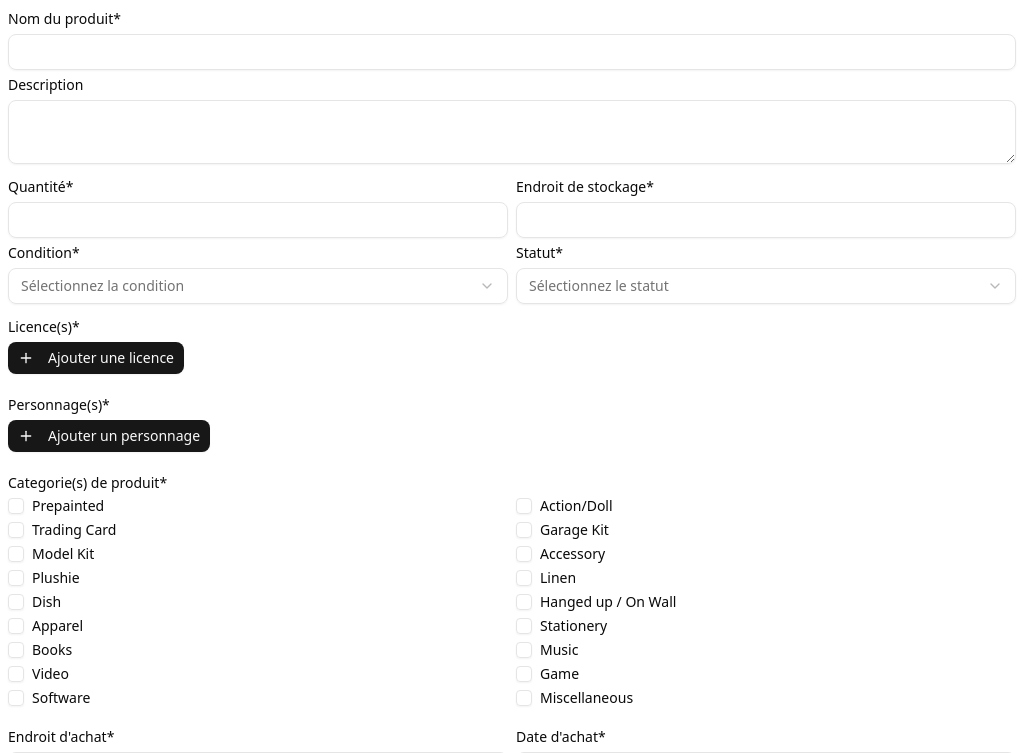
Test case: StockForm › handles condition field correctly
Click the dropdown labelled "Sélectionnez la condition" at (103, 286), box [8, 268, 508, 304]
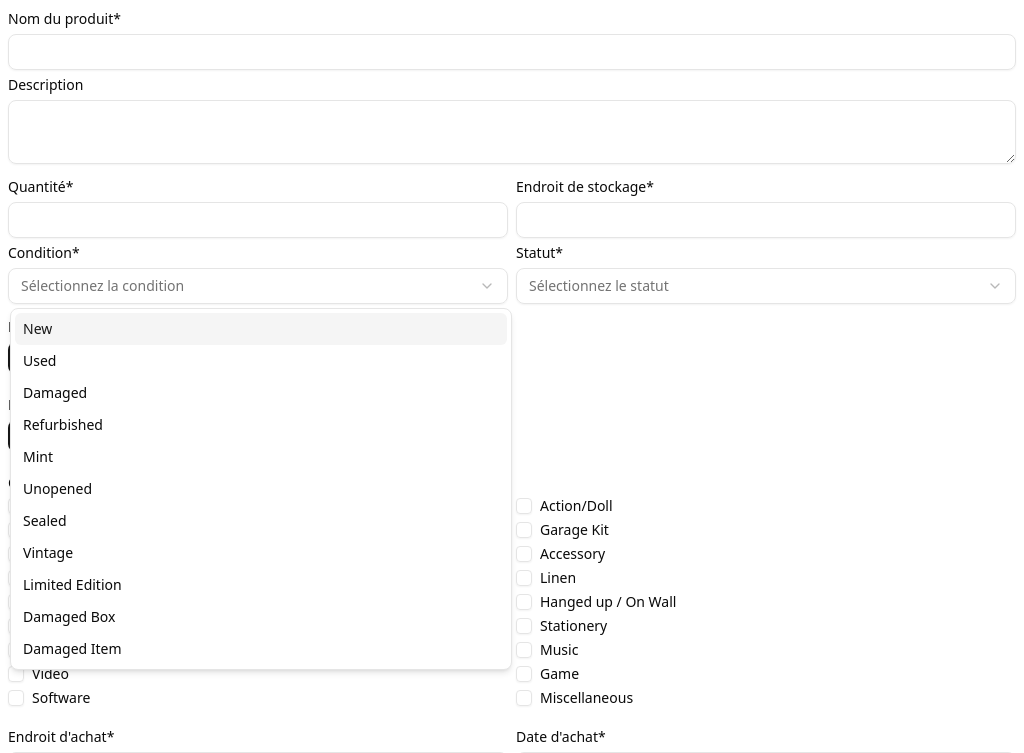
Click the option "Used" at (40, 360), box [23, 351, 56, 370]
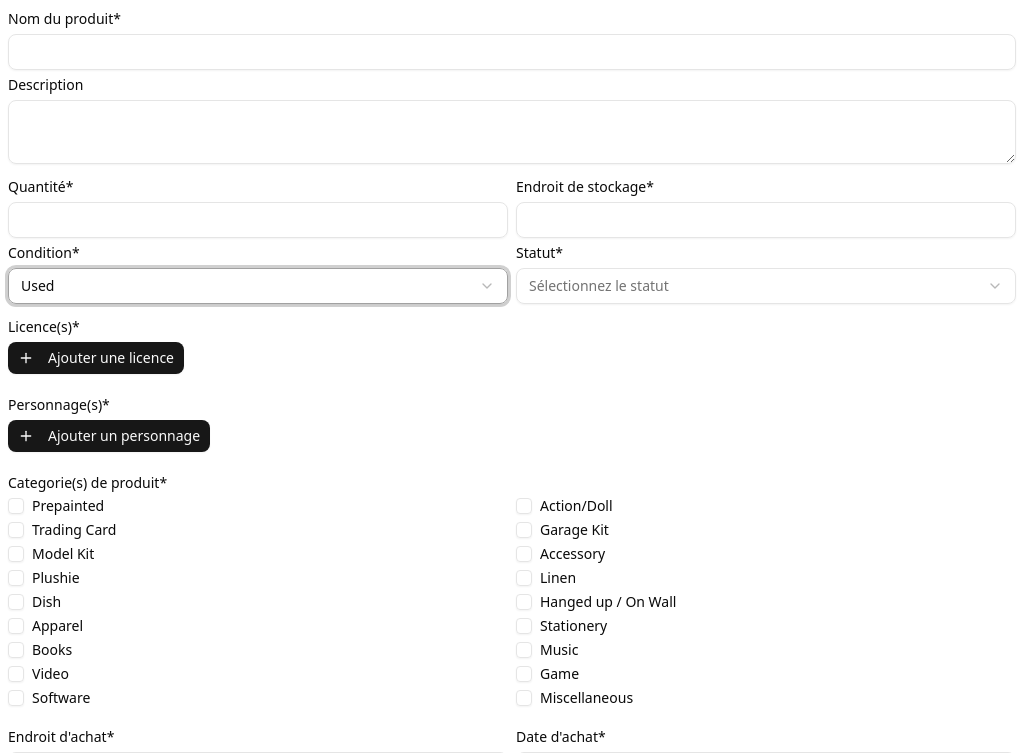
Check: the dropdown named "Condition" reads "Used", box [8, 268, 508, 304]
